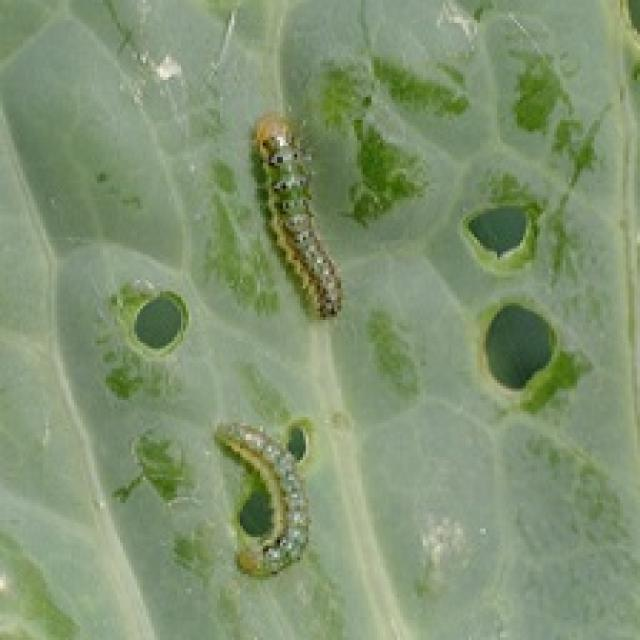Cabbage-worm: (248, 114, 380, 365), (210, 406, 324, 593)
